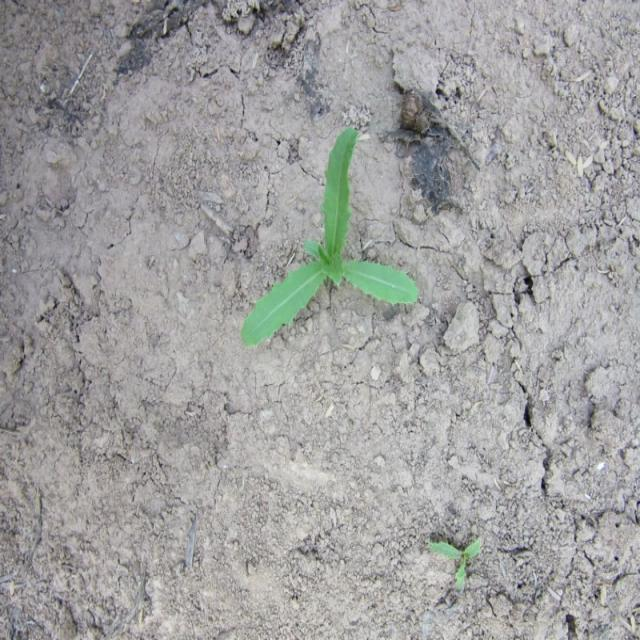cs: (239, 120, 422, 350)
